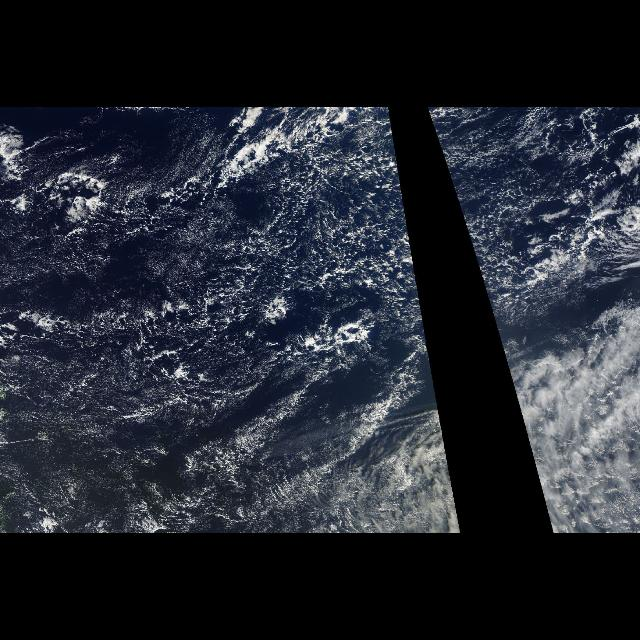Gravel: (21, 108, 426, 332), (426, 108, 640, 332)
Sugar: (4, 143, 442, 533)
